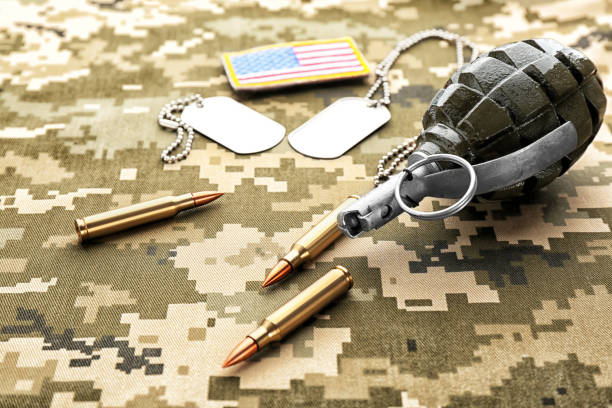e1: (347, 38, 607, 227)
